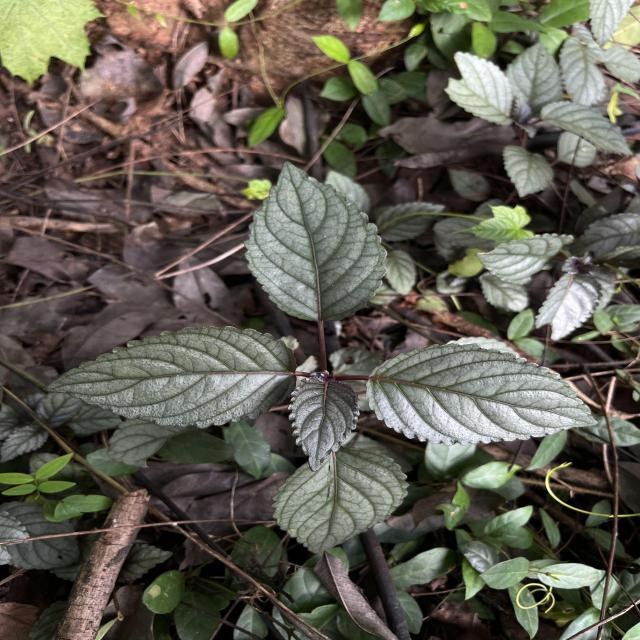Hemigraphis colorata: (39, 322, 297, 430), (362, 340, 602, 448), (240, 159, 392, 325), (266, 442, 412, 556), (284, 375, 364, 474), (536, 98, 636, 160), (473, 230, 577, 286)
